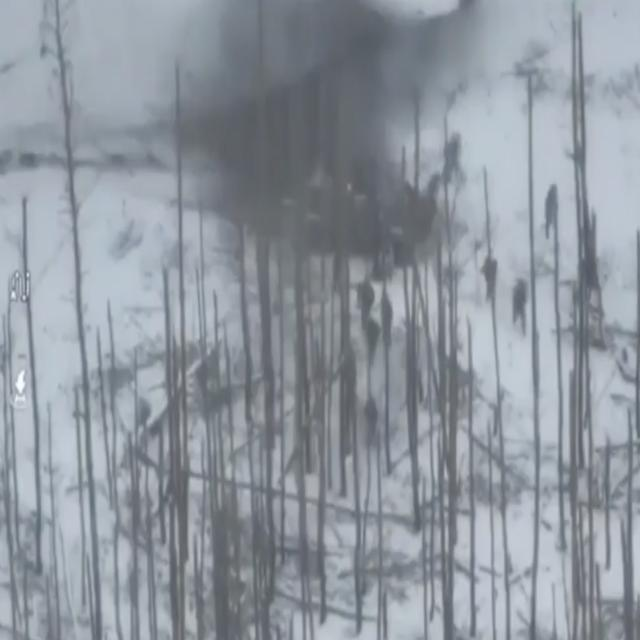infantry: (444, 127, 466, 184), (357, 270, 373, 328), (481, 247, 498, 300), (545, 182, 560, 240), (513, 276, 528, 334), (380, 289, 394, 346), (424, 171, 440, 215), (366, 397, 380, 443), (366, 316, 378, 368)
vehicle: (299, 132, 418, 255)
